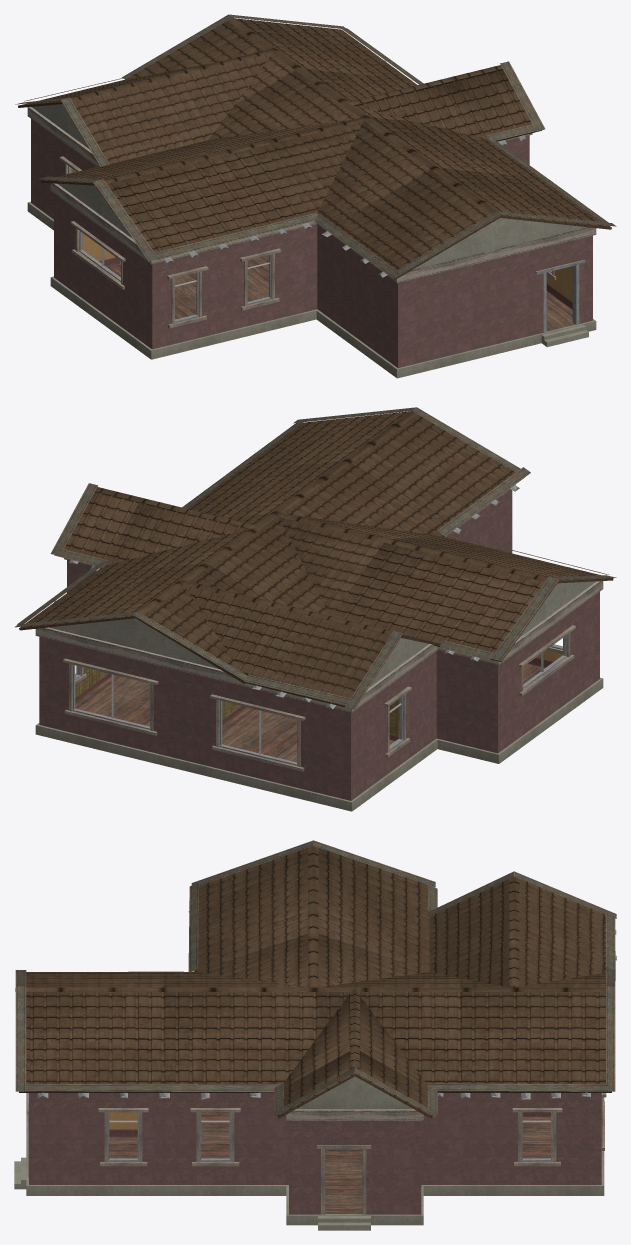
Rendered from BuildingMed012048_lod1.glb.
The picture shows the model from 3 angles, top to bottom: view 1: azimuth 30°, elevation 25°; view 2: azimuth 150°, elevation 25°; view 3: azimuth 270°, elevation 25°; orthographic projection. The views are drawn at different scales.
Parts seen in each view (by area): view 1: xiutz_building_lod1; view 2: xiutz_building_lod1; view 3: xiutz_building_lod1.
Boxes of the visible parts, x1,y1,x2,y2 form: xiutz_building_lod1: (15, 14, 616, 378); xiutz_building_lod1: (14, 407, 616, 811); xiutz_building_lod1: (14, 840, 616, 1230).
Bounding box in the file's own units: 22.22 × 6.98 × 24.22.
Materials: 1 (1 with a texture image).
